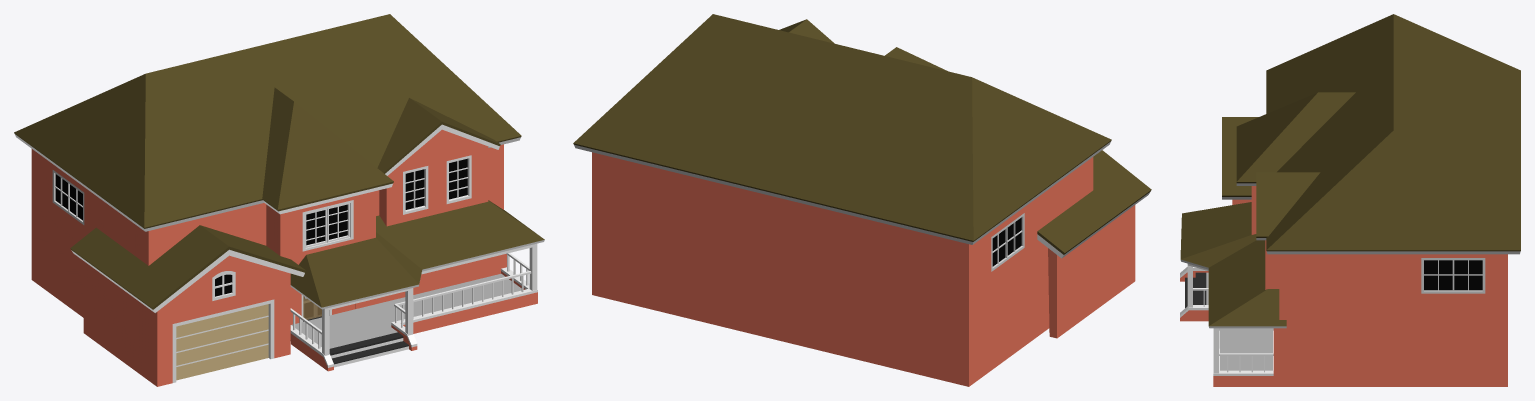
Rendered from House-33.fbx.
The picture shows the model from 3 angles, left to right: view 1: azimuth 30°, elevation 25°; view 2: azimuth 150°, elevation 25°; view 3: azimuth 270°, elevation 25°; orthographic projection. The views are drawn at different scales.
Parts seen in each view (by area): view 1: House-20-f; view 2: House-20-f; view 3: House-20-f.
Boxes of the visible parts, box(x1,y1,x2,y2) form: House-20-f: box(14, 14, 544, 386); House-20-f: box(573, 14, 1151, 386); House-20-f: box(1180, 14, 1520, 386).
Size of what is drawn, in the model's own units: 19.64 by 11.27 by 15.14.
